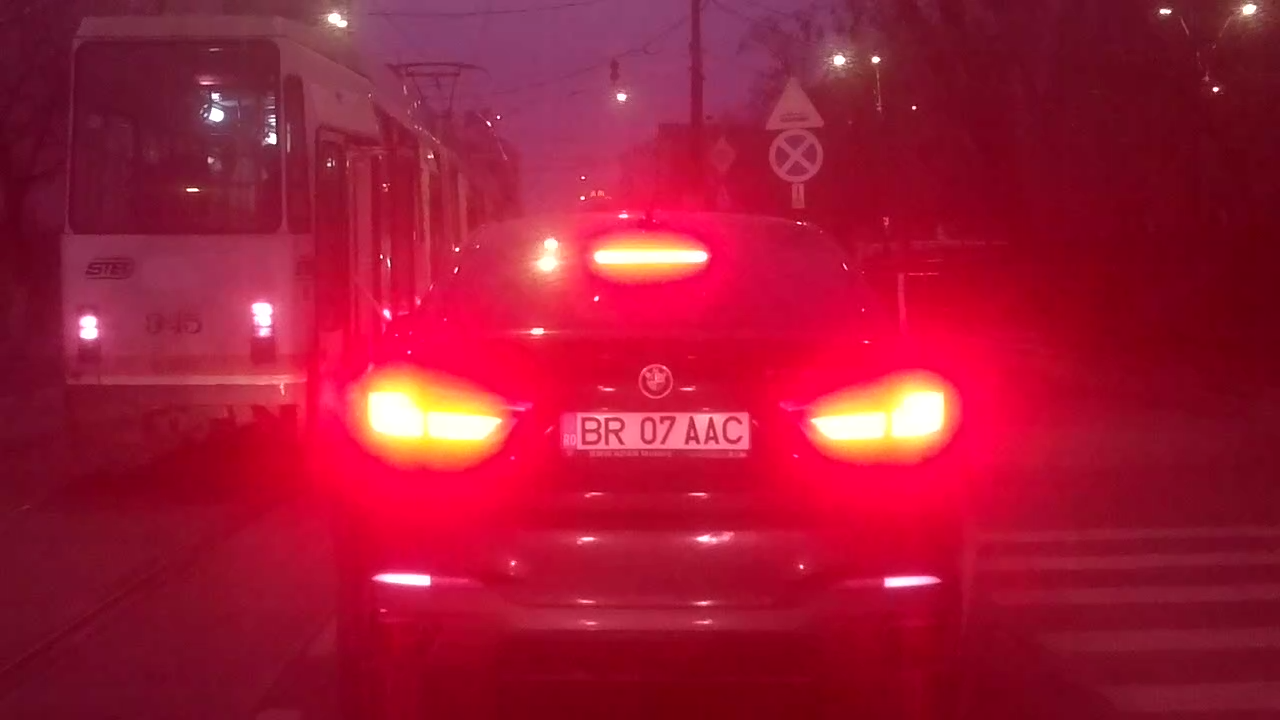license-plate: (555, 408, 754, 454)
